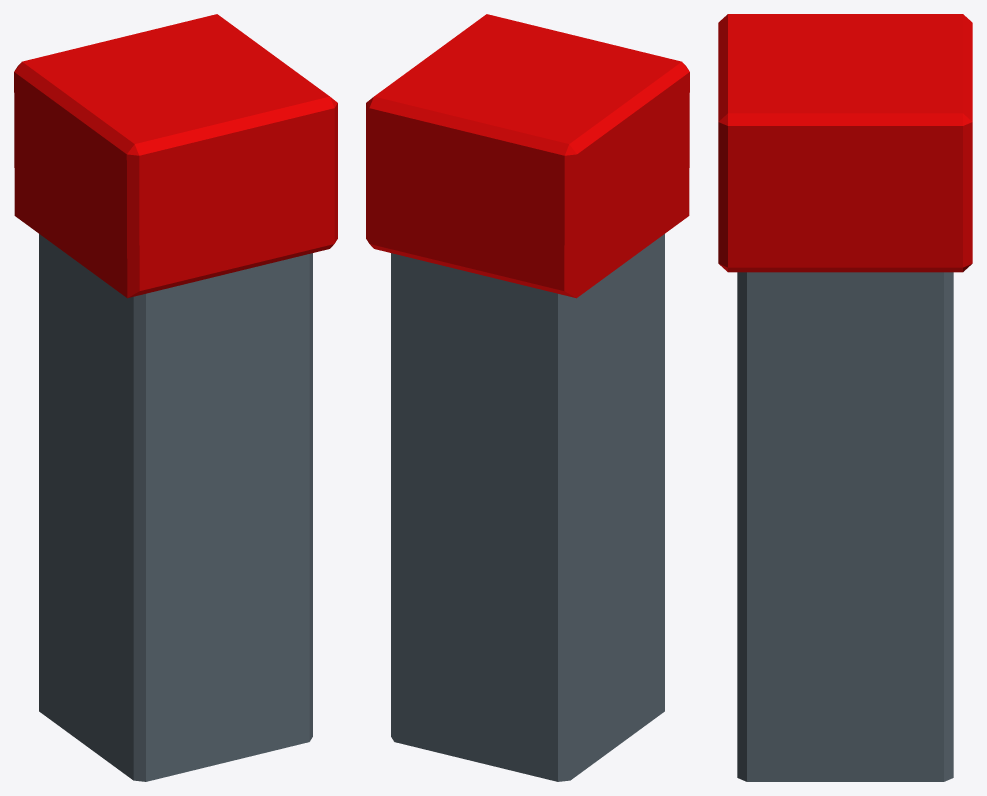
The model's file is Pole.fbx.
3 renders of one model, left to right at view 1: azimuth 30°, elevation 25°; view 2: azimuth 150°, elevation 25°; view 3: azimuth 270°, elevation 25°, orthographic. The views are drawn at different scales.
Visible parts, largest first — view 1: Pole; view 2: Pole; view 3: Pole.
Part boxes in pixels (box(x1,y1,x2,y2)): Pole: box(14, 14, 337, 781); Pole: box(366, 14, 689, 781); Pole: box(718, 14, 972, 781).
Bounding box in the file's own units: 1.18 × 3.44 × 1.18.
